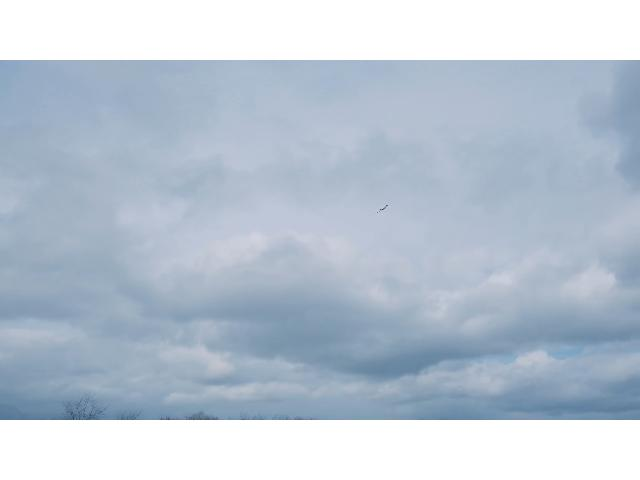Anti-Drone: (374, 202, 390, 217)
